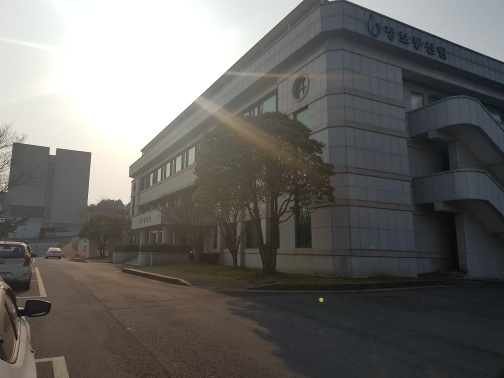Engineering College Building 4: (8, 138, 90, 238), (38, 143, 89, 234)
Information Telecommunication Center: (116, 33, 501, 278), (358, 11, 458, 81), (125, 205, 193, 259)
